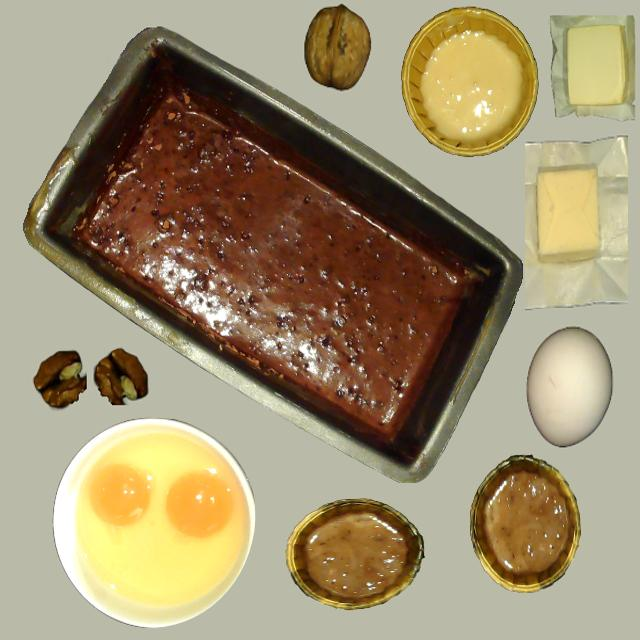Egg: (166, 472, 232, 539), (89, 464, 152, 527)
Walnut: (304, 5, 370, 90)
